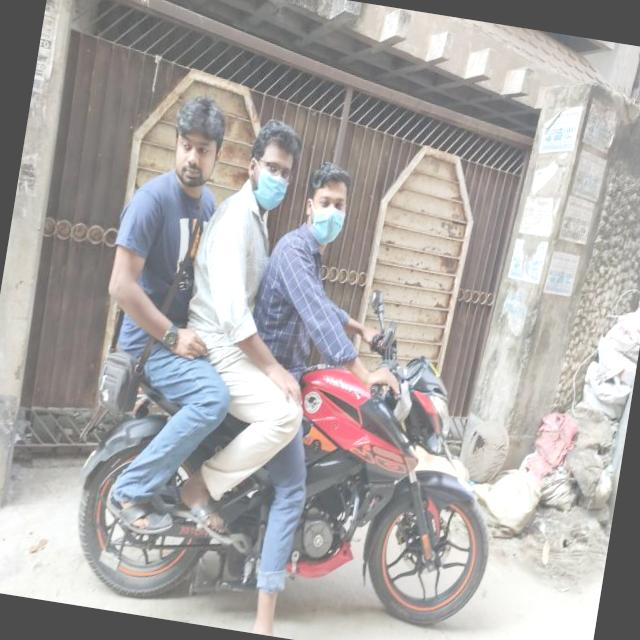motorcycle: (60, 284, 528, 640)
person: (227, 147, 390, 517), (152, 108, 310, 461), (90, 84, 240, 370)
